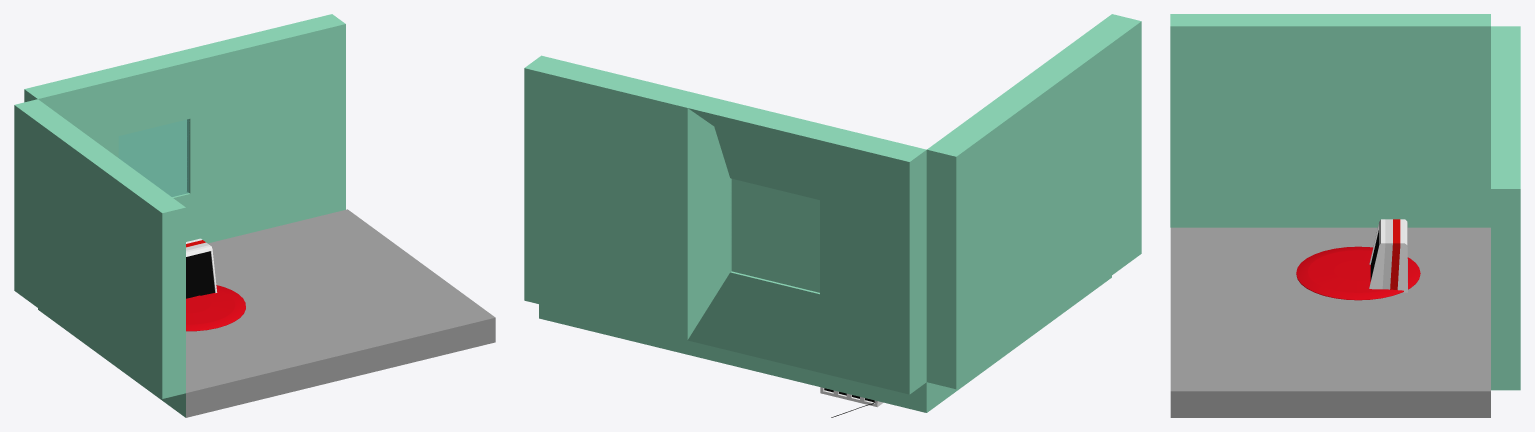
File: automat.glb
3 views of the same model, side by side, from view 1: azimuth 30°, elevation 25°; view 2: azimuth 150°, elevation 25°; view 3: azimuth 270°, elevation 25° (orthographic). The views are drawn at different scales.
Parts seen in each view (by area): view 1: podłoga, Cylinder, automat; view 2: podłoga; view 3: podłoga, Cylinder, automat.
Boxes of the visible parts, x1,y1,x2,y2 form: podłoga: (14,14,495,417); Cylinder: (186,285,245,331); automat: (186,238,217,298); podłoga: (524,14,1141,412); podłoga: (1170,14,1520,417); Cylinder: (1296,246,1420,300); automat: (1369,219,1407,292).
Bounding box in the file's own units: 14.63 × 10.59 × 12.29.
